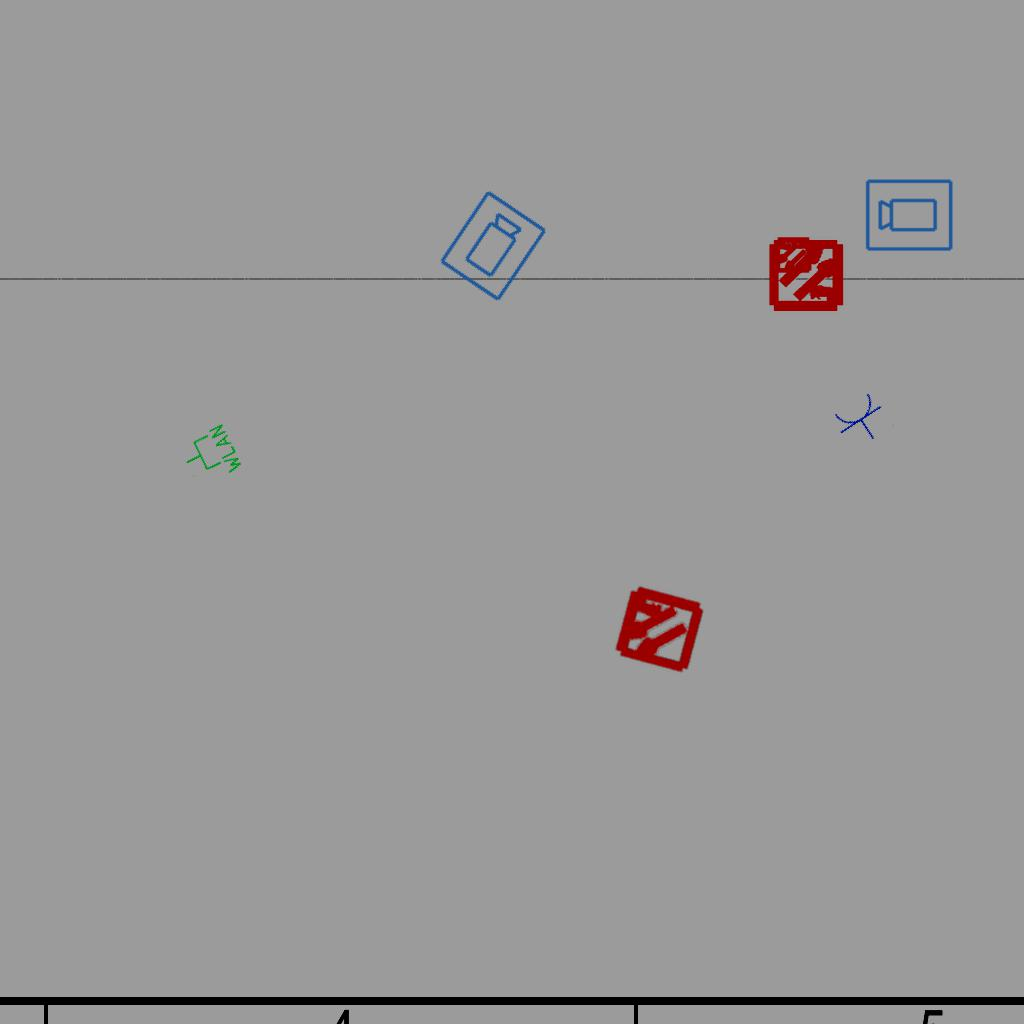KFO_Kamera_mit_Festobjektiv: (436, 187, 551, 306), (864, 176, 955, 253)
OT_Multisensormelder_(Kombination_RMO_WMD): (588, 559, 727, 698), (752, 219, 865, 332), (764, 227, 820, 283)
Schukosteckdose_einfach: (829, 388, 895, 453)
WLAN: (176, 421, 246, 491)
